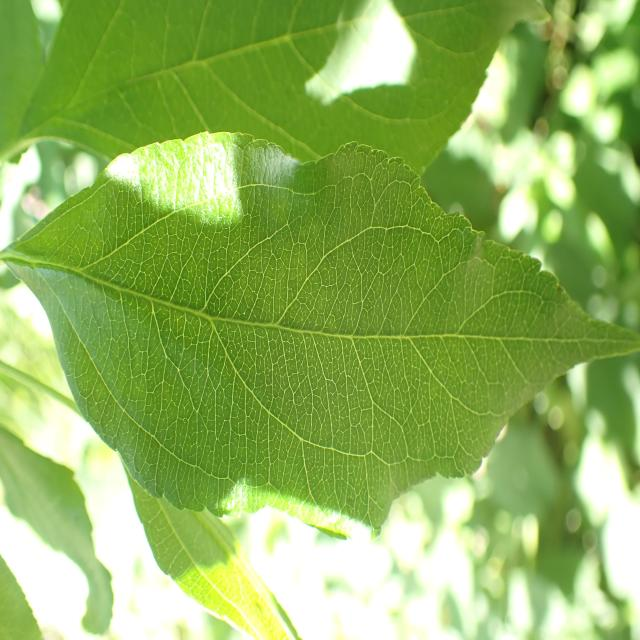healthy: (2, 130, 637, 541), (18, 1, 548, 182)
